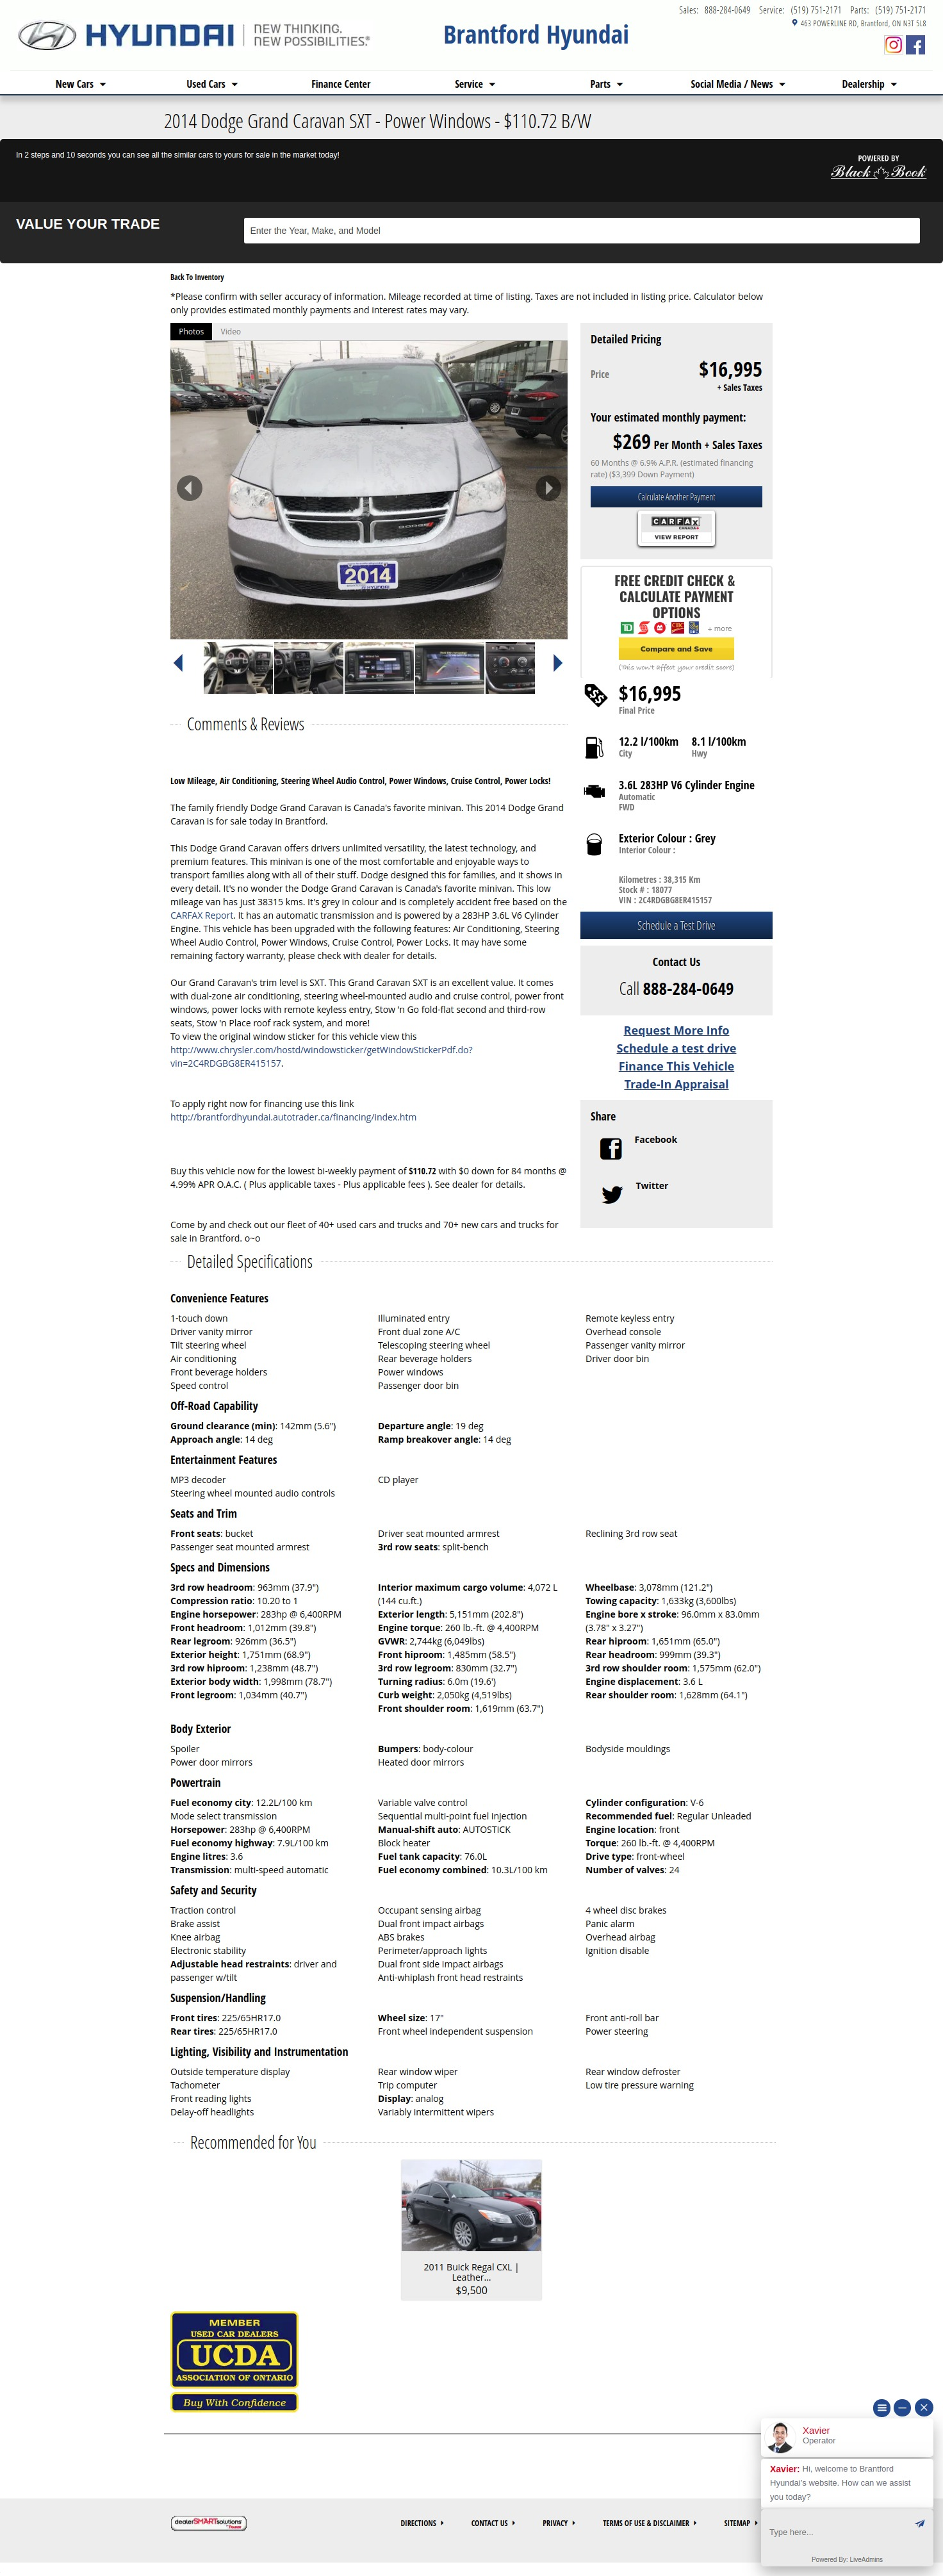car: (554, 654, 563, 672)
